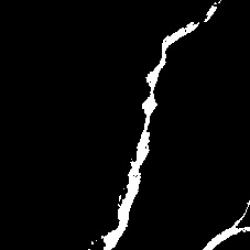crack: (102, 8, 218, 247), (204, 204, 249, 247)
